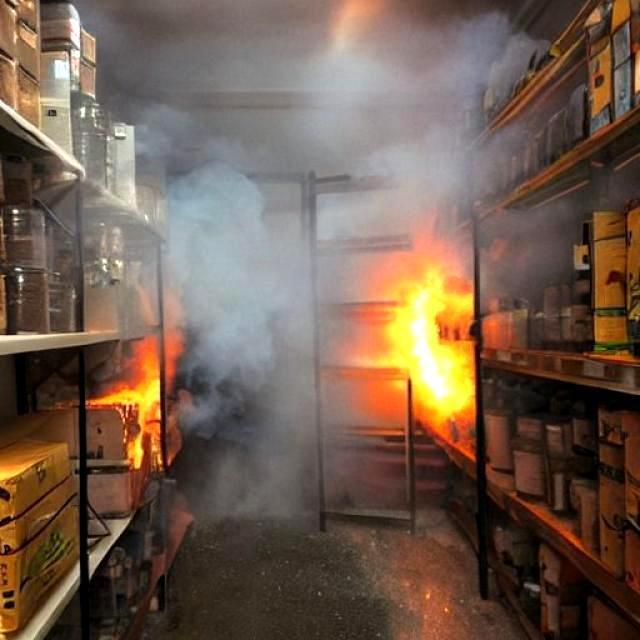Fire: (391, 270, 482, 447), (88, 350, 175, 465)
Smoke: (59, 8, 556, 296), (179, 297, 410, 557)
